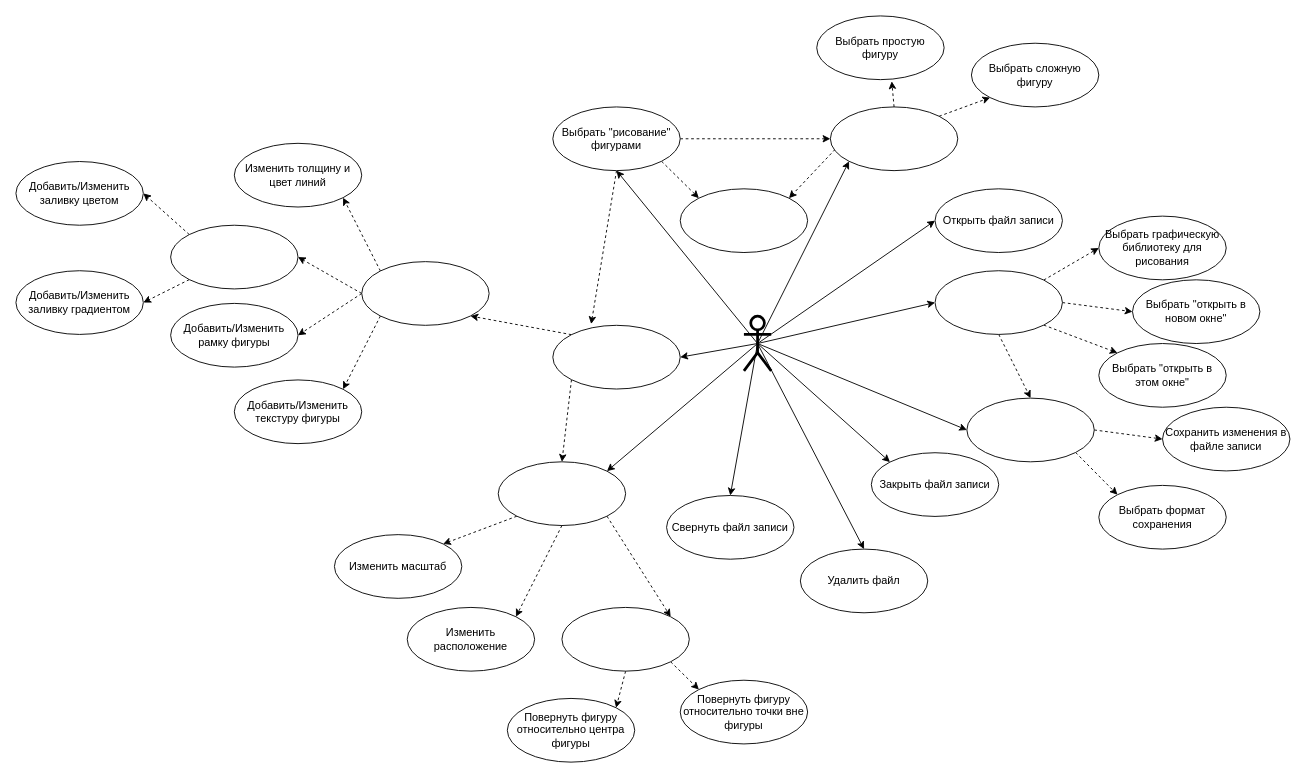
Some shapes in this 1306 by 778 pixel diagram are drawn without their labels. Here are the shapes that lost their labels. From the top down, the centre of each, then its label:
At point 893,138: "Выбрать фигуру для отрисовки граф.редактором".
At point 743,220: "Выбрать место отрисовки фигуры".
At point 234,256: "Добавить/Изменить заливку фигуры".
At point 425,293: "Изменить фигуру".
At point 998,302: "Создать файл записи".
At point 616,356: "Выбрать фигуру/фигуры".
At point 757,343: "Пользователь".
At point 1030,429: "Сохранить файл записи".
At point 561,493: "Изменить положение фигуры".
At point 625,639: "Повернуть".
